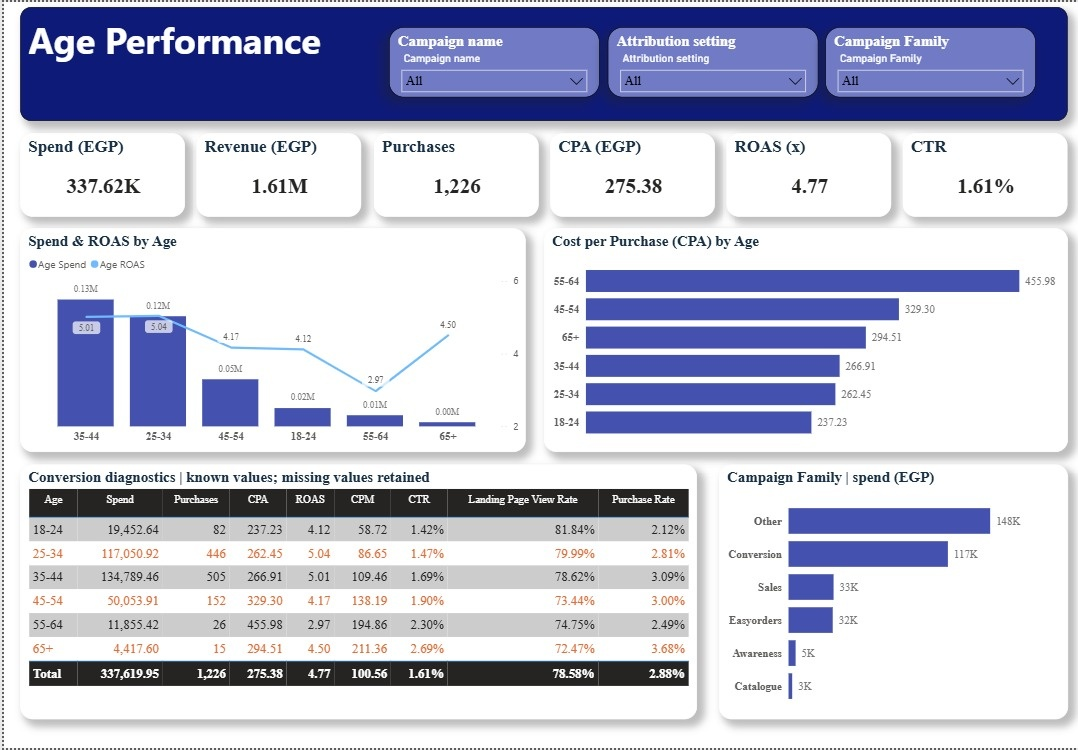

This screenshot's page, from the dashboard's own definition file:
{"tool":"powerbi","page":{"name":"Age","canvas":[1440,1000],"ordinal":2},"visuals":[{"type":"group","id":"g1","title":"Group 5","box":[21.8,6.7,1404.2,152.5],"z":0},{"type":"textbox","box":[21.8,6.7,1404.2,152.5],"z":0,"group":"g1"},{"type":"slicer","title":"Campaign name","fields":{"Values":["Age.Campaign name"]},"box":[515.6,33.2,282.5,94.5],"z":1000,"group":"g2"},{"type":"group","id":"g2","title":"Group 3","box":[515.6,33.2,867.5,94.5],"z":1000,"group":"g1"},{"type":"group","id":"g3","title":"Group 1","box":[21.8,175.9,1404.2,112.3],"z":1000},{"type":"slicer","title":"Attribution setting","fields":{"Values":["Age.Attribution setting"]},"box":[808.1,33.2,282.5,94.5],"z":2000,"group":"g2"},{"type":"group","id":"g4","title":"Group 2","box":[21.8,303.3,1404.2,299.9],"z":2000},{"type":"slicer","title":"Campaign Family","fields":{"Values":["Age.Campaign Family"]},"box":[1100.7,33.2,282.5,94.5],"z":3000,"group":"g2"},{"type":"group","id":"g5","title":"Group 4","box":[21.8,620,1404.2,341.8],"z":3000},{"type":"card","title":"Spend (EGP)","fields":{"Values":["Age.Age Spend"]},"box":[21.8,175.9,220.4,112.3],"z":4000,"group":"g3"},{"type":"card","title":"Revenue (EGP)","fields":{"Values":["Age.Age Revenue"]},"box":[258.5,175.9,220.4,112.3],"z":5000,"group":"g3"},{"type":"card","title":"Purchases","fields":{"Values":["Age.Age Purchases"]},"box":[495.3,175.9,220.4,112.3],"z":6000,"group":"g3"},{"type":"card","title":"CPA (EGP)","fields":{"Values":["Age.Age CPA"]},"box":[732,175.9,220.4,112.3],"z":7000,"group":"g3"},{"type":"card","title":"ROAS (x)","fields":{"Values":["Age.Age ROAS"]},"box":[968.8,175.9,220.4,112.3],"z":8000,"group":"g3"},{"type":"card","title":"CTR","fields":{"Values":["Age.Age CTR"]},"box":[1205.5,175.9,220.4,112.3],"z":9000,"group":"g3"},{"type":"lineClusteredColumnComboChart","title":"Spend & ROAS by Age","fields":{"Category":["Age.Age"],"Y":["Age.Age Spend"],"Y2":["Age.Age ROAS"]},"box":[21.8,303.3,677.9,299.9],"z":11000,"group":"g4"},{"type":"clusteredBarChart","title":"Cost per Purchase (CPA) by Age","fields":{"Category":["Age.Age"],"Y":["Age.Age CPA"]},"box":[723.9,303.3,702.1,299.9],"z":12000,"group":"g4"},{"type":"tableEx","title":"Conversion diagnostics | known values; missing values retained","fields":{"Values":["Age.Age","Age.Age Spend","Age.Age Purchases","Age.Age CPA","Age.Age ROAS","Age.Age CPM","Age.Age CTR","Age.Age Landing Page View Rate","Age.Age Purchase Rate"]},"box":[21.8,620,907.6,341.8],"z":13000,"group":"g5"},{"type":"barChart","title":"Campaign Family | spend (EGP)","fields":{"Category":["Age.Campaign Family"],"Y":["Age.Age Spend"]},"box":[957.9,620,468.1,341.8],"z":14000,"group":"g5"}]}

Visuals, with their boxes in screenshot pixels (x1, y1, x2, y2), scaled from the page's 1440x1000 canvas onto the 1078x750 screenshot:
"Group 5" group: region(16, 5, 1068, 119)
textbox: region(16, 5, 1068, 119)
"Campaign name" slicer: region(386, 25, 597, 96)
"Group 3" group: region(386, 25, 1035, 96)
"Group 1" group: region(16, 132, 1068, 216)
"Attribution setting" slicer: region(605, 25, 816, 96)
"Group 2" group: region(16, 227, 1068, 452)
"Campaign Family" slicer: region(824, 25, 1035, 96)
"Group 4" group: region(16, 465, 1068, 721)
"Spend (EGP)" card: region(16, 132, 181, 216)
"Revenue (EGP)" card: region(194, 132, 359, 216)
"Purchases" card: region(371, 132, 536, 216)
"CPA (EGP)" card: region(548, 132, 713, 216)
"ROAS (x)" card: region(725, 132, 890, 216)
"CTR" card: region(902, 132, 1067, 216)
"Spend & ROAS by Age" lineClusteredColumnComboChart: region(16, 227, 524, 452)
"Cost per Purchase (CPA) by Age" clusteredBarChart: region(542, 227, 1068, 452)
"Conversion diagnostics | known values; missing values retained" tableEx: region(16, 465, 696, 721)
"Campaign Family | spend (EGP)" barChart: region(717, 465, 1068, 721)
